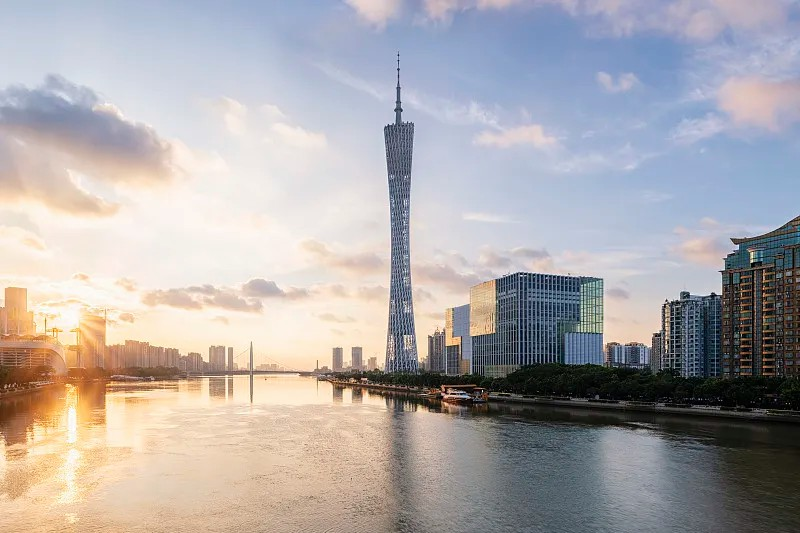Canton: (379, 45, 423, 376)
